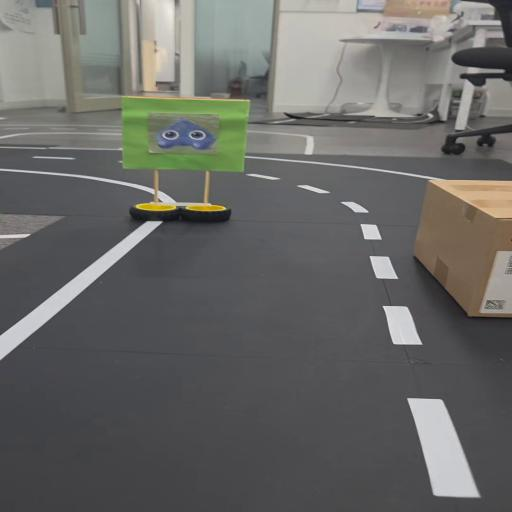Sign_B: (106, 90, 274, 231)
